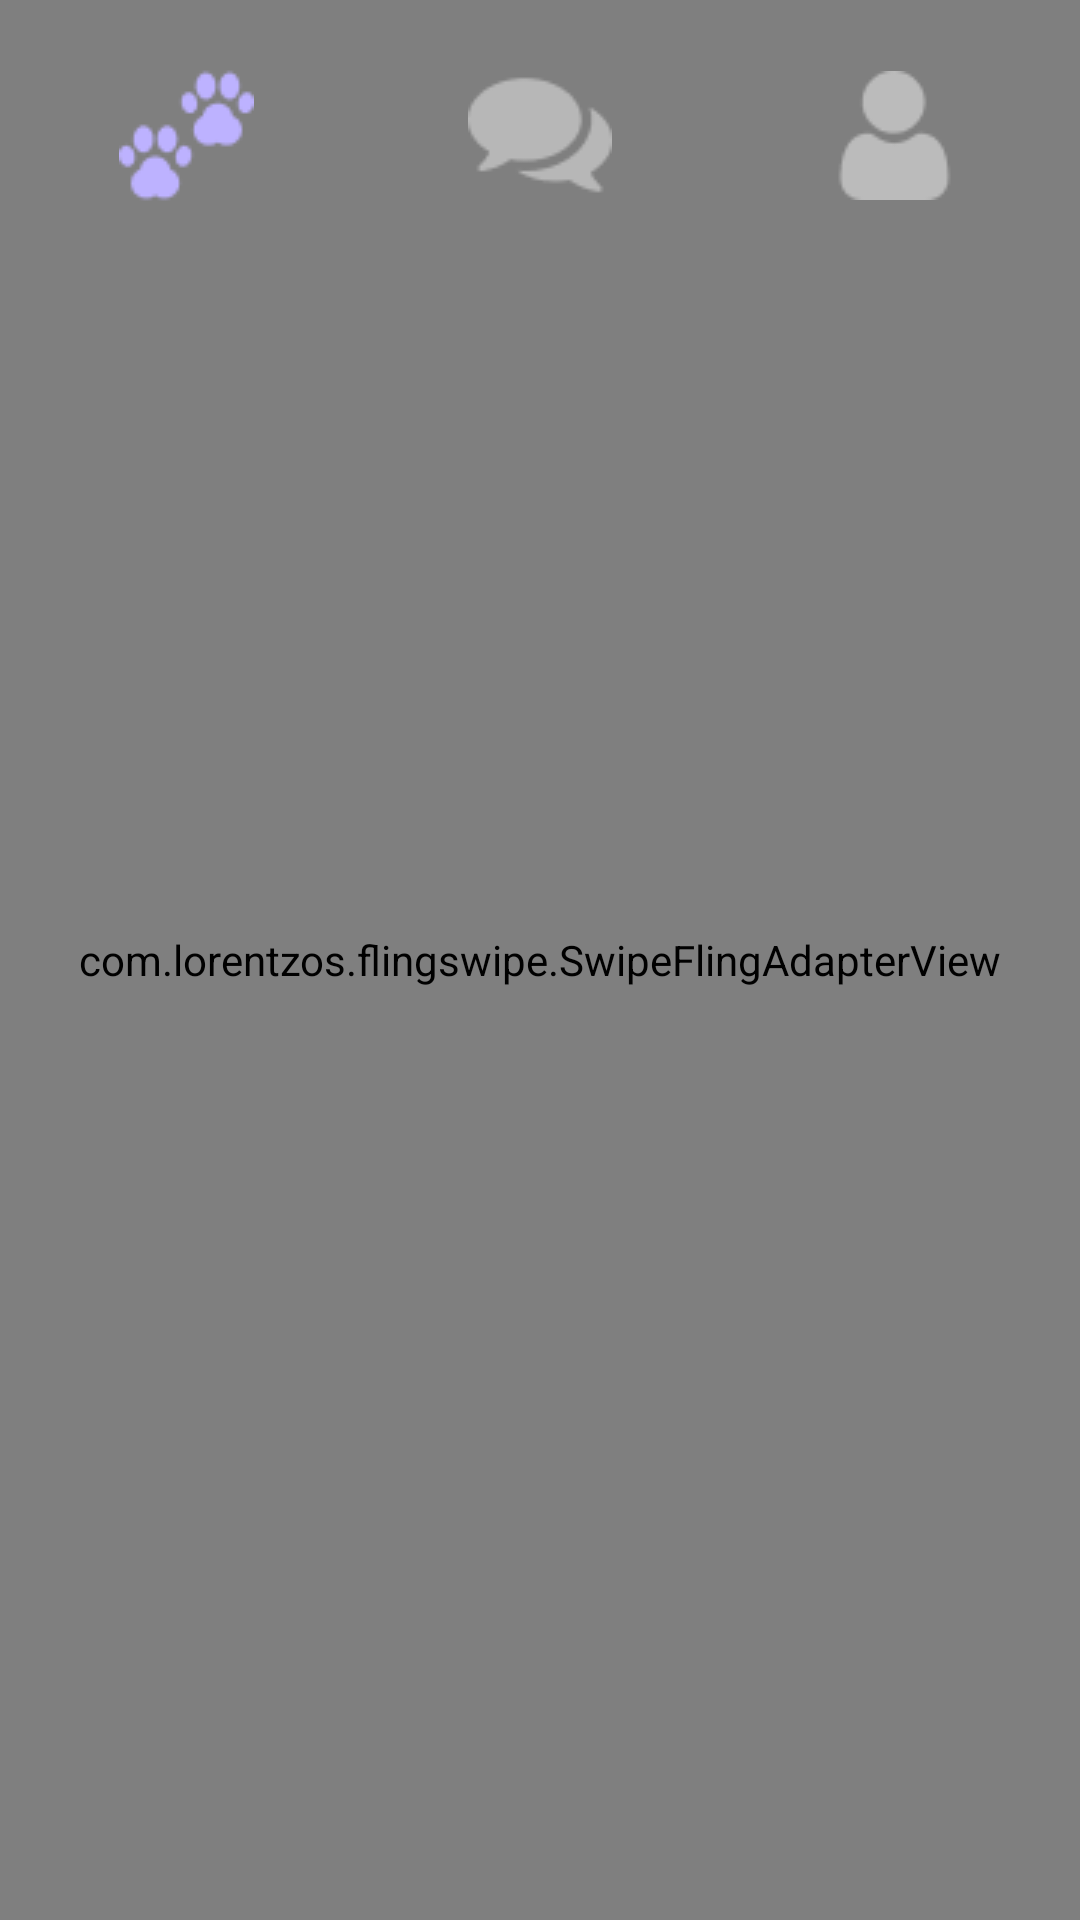

Named icons in this screenshot (1080 x 1920) and their bounding boxes, (x1, y1, x2, y2):
iconechatnormal: (468, 78, 612, 192)
iconeperfilnormal: (840, 71, 948, 200)
iconepetchativado: (119, 71, 254, 200)
